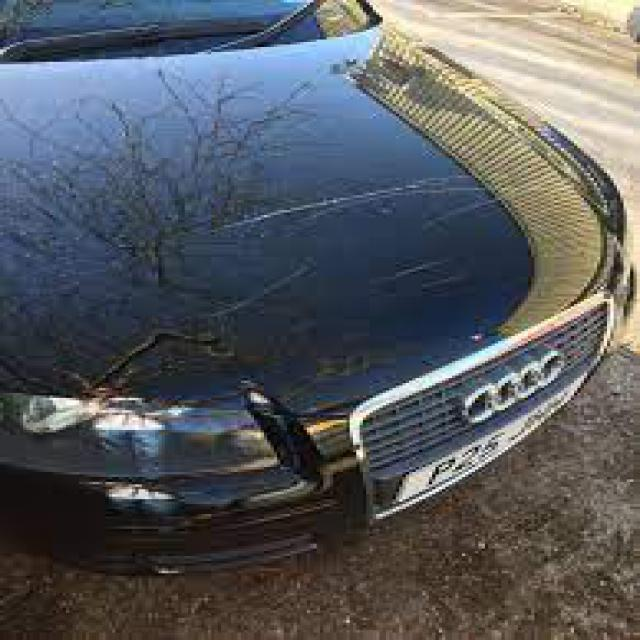bonnet-dent: (0, 104, 607, 452)
front-bumper-dent: (3, 408, 459, 578)
